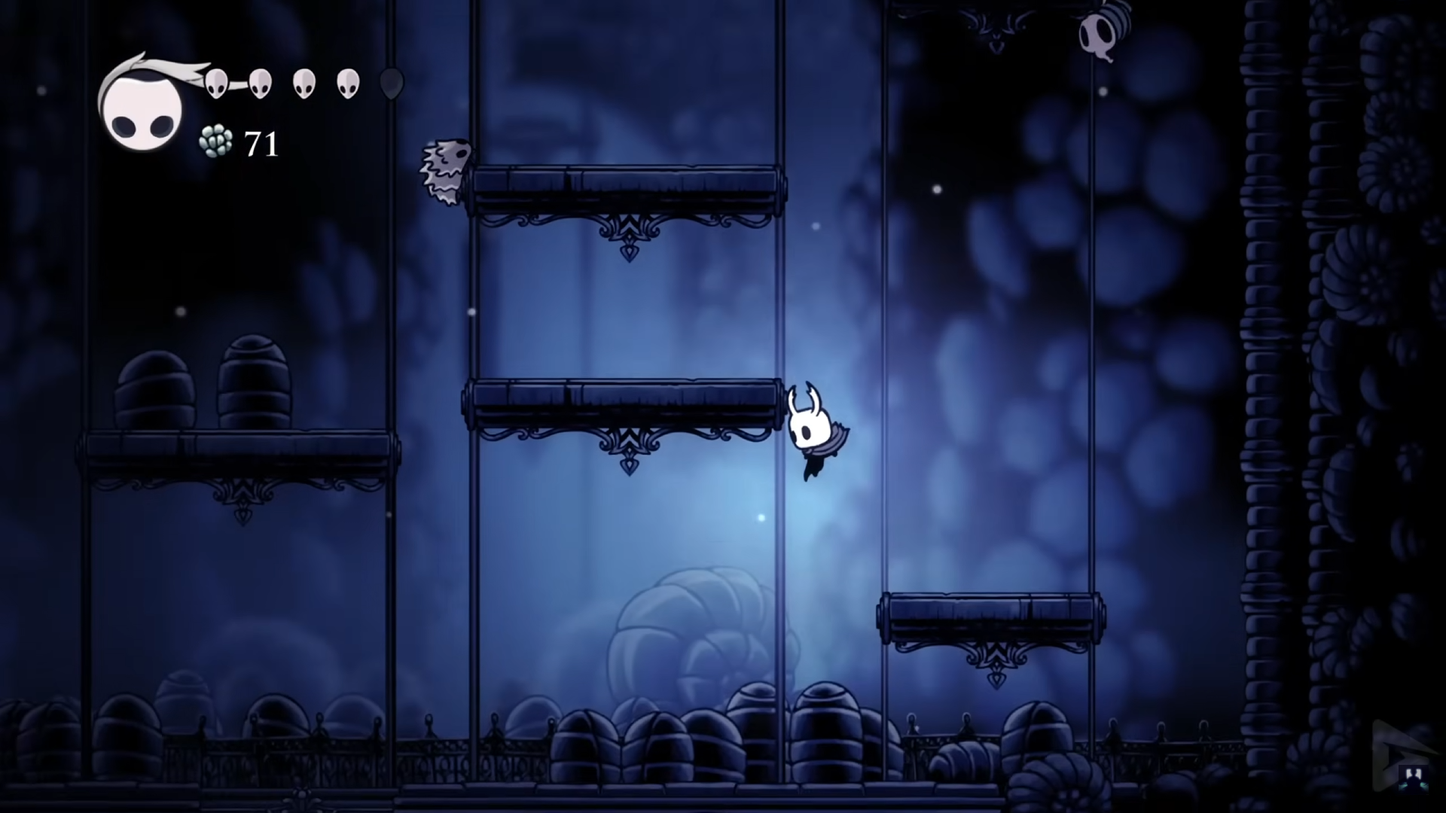HK: (781, 380, 853, 483)
